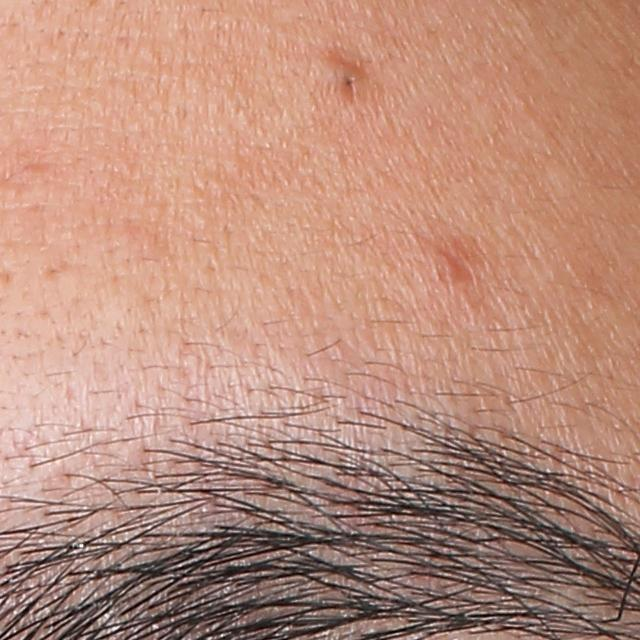comedo: (319, 58, 374, 99)
